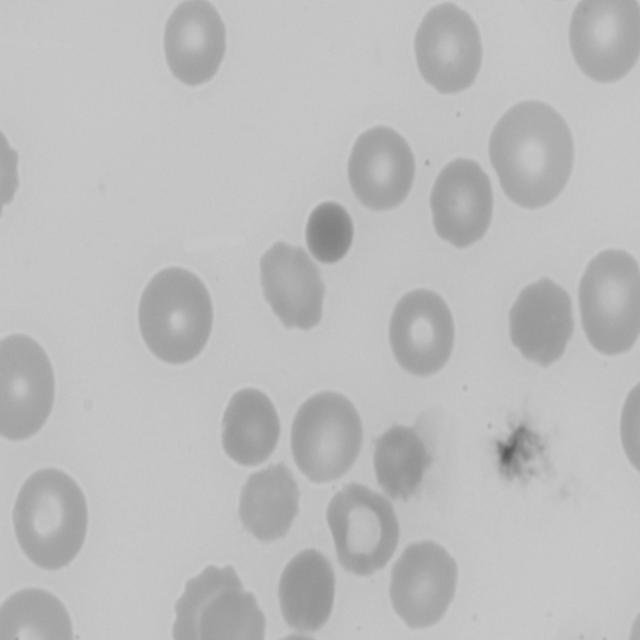RBC: (486, 96, 576, 210), (8, 462, 94, 576), (134, 262, 215, 366), (284, 388, 366, 486), (322, 480, 402, 580), (383, 532, 458, 629), (576, 244, 640, 357), (0, 328, 62, 442), (383, 283, 456, 379), (508, 273, 581, 368), (410, 0, 482, 95), (429, 152, 497, 250), (348, 121, 418, 216), (254, 236, 324, 330), (158, 0, 228, 90), (569, 0, 640, 87), (234, 459, 302, 548), (274, 543, 338, 635), (218, 383, 284, 466), (0, 588, 77, 640), (616, 371, 640, 488), (623, 584, 640, 640)
Spherocyte: (306, 198, 354, 265)
